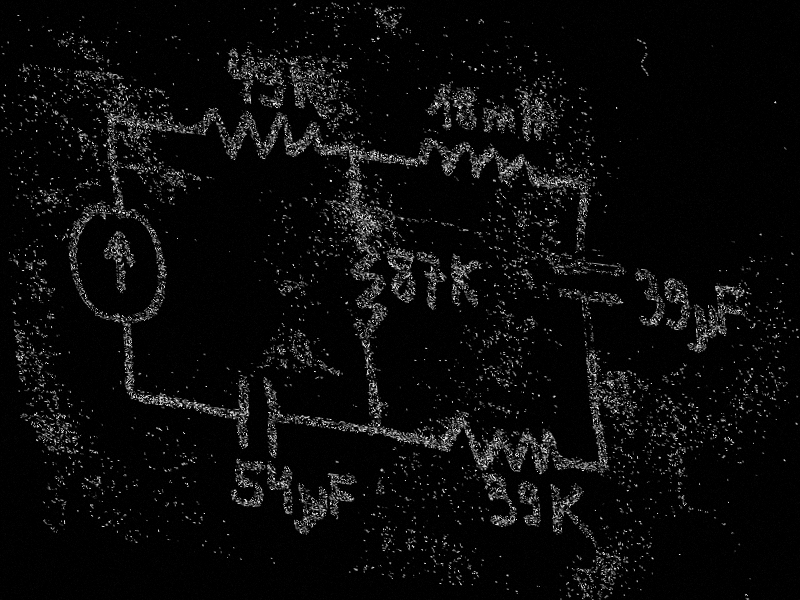1: (421, 82, 455, 131)
3: (479, 470, 519, 533), (632, 264, 668, 333)
4: (224, 45, 258, 107), (265, 459, 297, 518)
5: (228, 453, 269, 511)
7: (414, 250, 450, 312)
8: (383, 244, 420, 305), (451, 87, 480, 133)
9: (659, 274, 694, 335), (253, 56, 286, 111), (514, 480, 546, 531)
F: (713, 280, 748, 343), (325, 472, 359, 524)
H: (517, 91, 545, 145)
k: (287, 57, 335, 122), (546, 481, 594, 543), (448, 252, 484, 313)
m: (481, 103, 517, 139)
u: (293, 482, 331, 539), (691, 304, 721, 357)
